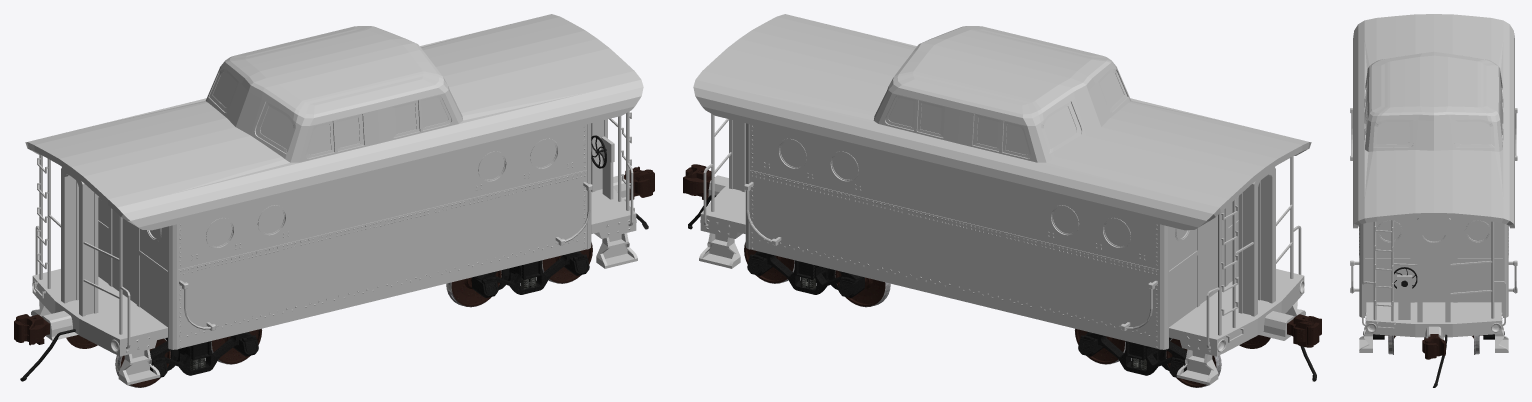
File: n5c_cabin_car.obj
3 views of the same model, side by side, from view 1: azimuth 30°, elevation 25°; view 2: azimuth 150°, elevation 25°; view 3: azimuth 270°, elevation 25° (orthographic). The views are drawn at different scales.
Parts seen in each view (by area): view 1: Cube.003_Cube.014, Cube.001_Cube.011, Cube_Cube.010, Cube.006_Cube.038, Cube.005_Cube.020, Cube.007_Cube.039, BOGEY_FRONT_Cube, BOGEY_REAR_Cube.007, BOGEY_FRONT_WHEEL_2_Cylinder.001, BOGEY_REAR_WHEEL_1_Cylinder.005, BACK_COUPLER.000_Cube.025, Cube.011_Cube.023 (+3 smaller); view 2: Cube.003_Cube.014, Cube.001_Cube.011, Cube_Cube.010, Cube.006_Cube.038, Cube.005_Cube.020, BOGEY_FRONT_Cube, Cube.007_Cube.039, BOGEY_REAR_Cube.007, BOGEY_FRONT_WHEEL_2_Cylinder.001, BACK_COUPLER.001_Cube.031, BACK_COUPLER.000_Cube.025, BOGEY_REAR_WHEEL_1_Cylinder.005 (+3 smaller); view 3: Cube.003_Cube.014, Cube.001_Cube.011, Cube_Cube.010, Cube.005_Cube.020, Cube.002_Cube.012, BACK_COUPLER.001_Cube.031, BOGEY_FRONT_WHEEL_1_Cylinder.003, BACK_COUPLER_KNUCLE.002_Cylinder.020, Cube.010_Cube.015, BrakeStaff.001_BrakeStaff.004, Cube.004_Cube.033, Cube.009_Cube.022.
Part boxes in pixels (bbox=[...]): Cube.003_Cube.014: bbox=[25, 14, 643, 230]; Cube.001_Cube.011: bbox=[98, 123, 630, 352]; Cube_Cube.010: bbox=[31, 188, 637, 385]; Cube.006_Cube.038: bbox=[34, 154, 130, 348]; Cube.005_Cube.020: bbox=[591, 111, 634, 225]; Cube.007_Cube.039: bbox=[112, 209, 136, 303]; BOGEY_FRONT_Cube: bbox=[472, 251, 589, 298]; BOGEY_REAR_Cube.007: bbox=[150, 332, 258, 378]; BOGEY_FRONT_WHEEL_2_Cylinder.001: bbox=[446, 270, 501, 307]; BOGEY_REAR_WHEEL_1_Cylinder.005: bbox=[66, 335, 170, 387]; BACK_COUPLER.000_Cube.025: bbox=[16, 314, 49, 345]; Cube.011_Cube.023: bbox=[41, 311, 77, 340]; Cube.003_Cube.014: bbox=[693, 14, 1311, 230]; Cube.001_Cube.011: bbox=[706, 123, 1238, 352]; Cube_Cube.010: bbox=[699, 184, 1305, 385]; Cube.006_Cube.038: bbox=[1206, 156, 1301, 348]; Cube.005_Cube.020: bbox=[703, 114, 745, 225]; BOGEY_FRONT_Cube: bbox=[747, 251, 864, 298]; Cube.007_Cube.039: bbox=[1200, 209, 1224, 303]; BOGEY_REAR_Cube.007: bbox=[1078, 332, 1186, 378]; BOGEY_FRONT_WHEEL_2_Cylinder.001: bbox=[835, 270, 890, 307]; BACK_COUPLER.001_Cube.031: bbox=[683, 164, 711, 200]; BACK_COUPLER.000_Cube.025: bbox=[1287, 314, 1321, 347]; BOGEY_REAR_WHEEL_1_Cylinder.005: bbox=[1166, 335, 1270, 387]; Cube.003_Cube.014: bbox=[1353, 14, 1514, 228]; Cube.001_Cube.011: bbox=[1359, 218, 1508, 329]; Cube_Cube.010: bbox=[1359, 302, 1508, 352]; Cube.005_Cube.020: bbox=[1362, 217, 1505, 329]; Cube.002_Cube.012: bbox=[1414, 218, 1453, 302]; BACK_COUPLER.001_Cube.031: bbox=[1422, 334, 1445, 359]; BOGEY_FRONT_WHEEL_1_Cylinder.003: bbox=[1384, 335, 1483, 354]; BACK_COUPLER_KNUCLE.002_Cylinder.020: bbox=[1425, 342, 1438, 358]; Cube.010_Cube.015: bbox=[1424, 326, 1443, 339]; BrakeStaff.001_BrakeStaff.004: bbox=[1394, 267, 1417, 288]; Cube.004_Cube.033: bbox=[1508, 260, 1517, 293]; Cube.009_Cube.022: bbox=[1350, 260, 1359, 293].
Bounding box in the file's own units: 9.87 × 3.76 × 2.92.
Materials: 10 (9 with a texture image).
